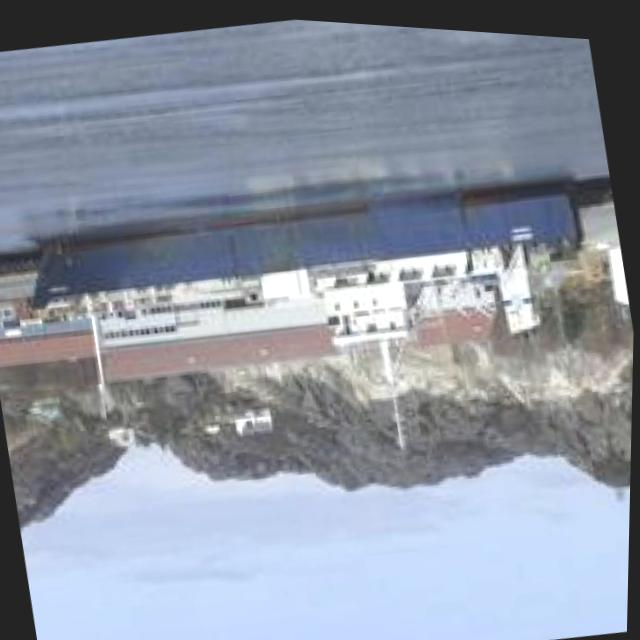ship2: (31, 170, 586, 396)
